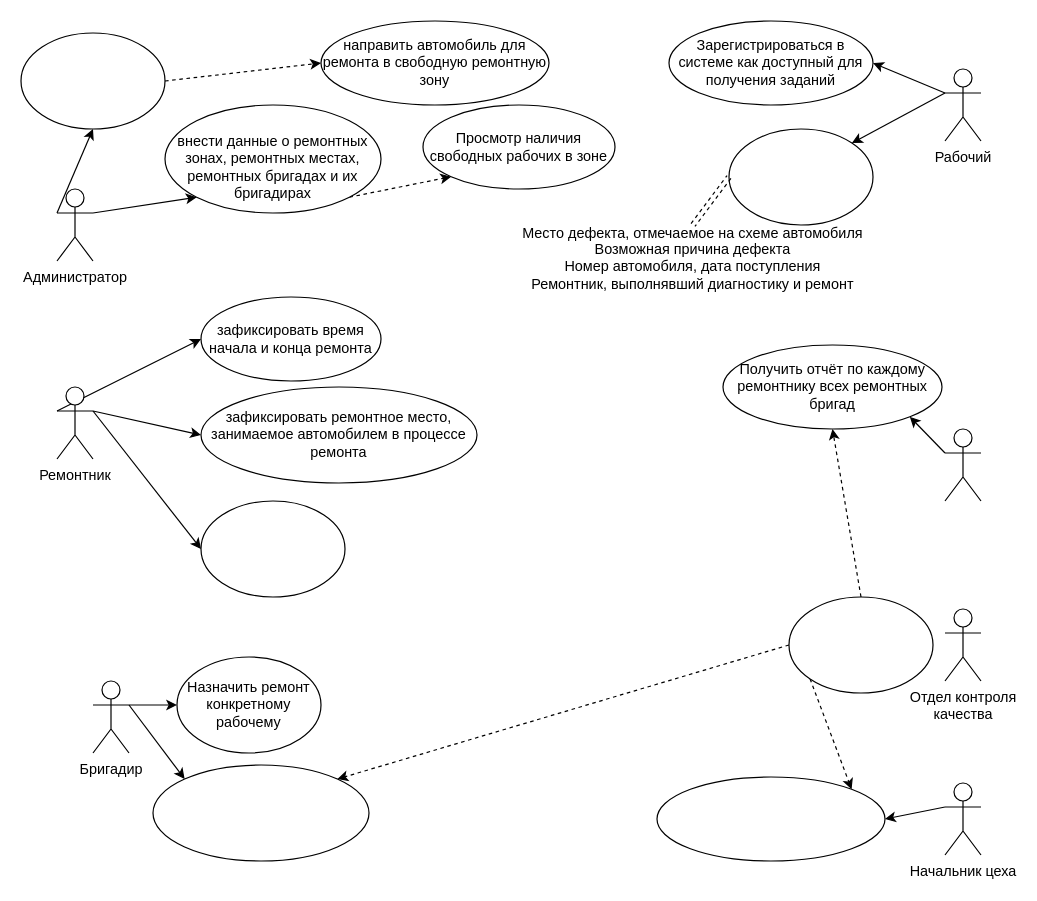
Some shapes in this 1037 by 901 pixel diagram are drawn without their labels. Each missing label, with the box of its shape:
Бухгалтерия: (944, 428, 981, 501)
Зарегистрировать дефект: (728, 128, 873, 225)
зафиксировать рабочего, выполнявшего ремонт: (200, 500, 345, 597)
Получить информацию по каждому ремонтнику бригады: (152, 764, 369, 861)
Получить отчёт об общем количестве ремонтов и их суммарном времени: (656, 776, 885, 861)
Получить сводный отчет и статистику: (788, 596, 933, 693)
Просмотр свободных и занятых мест в ремонтной зоне: (20, 32, 165, 129)
